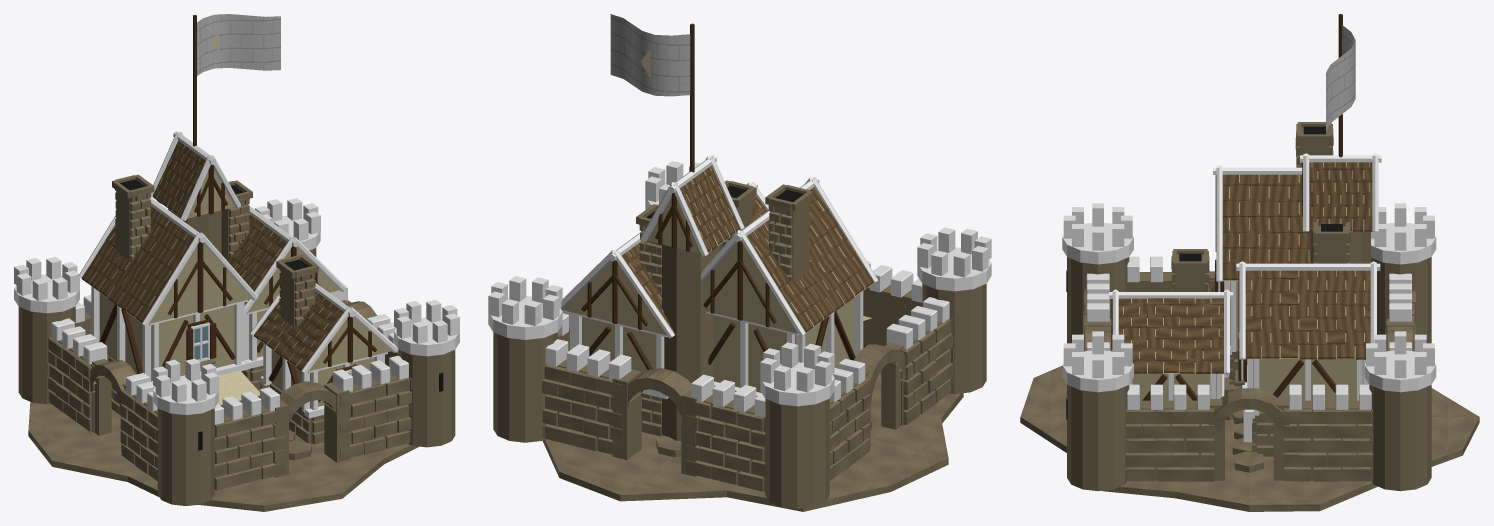
File: City.glb
3 renders of one model, left to right at view 1: azimuth 30°, elevation 25°; view 2: azimuth 150°, elevation 25°; view 3: azimuth 270°, elevation 25°, orthographic. The views are drawn at different scales.
Parts seen in each view (by area): view 1: City; view 2: City; view 3: City.
Boxes of the visible parts, x1,y1,x2,y2 form: City: (14, 14, 459, 511); City: (488, 14, 991, 511); City: (1020, 14, 1479, 511).
Size of the model in its own units: 0.5564 by 0.566 by 0.5771.
10 materials, 8 textured.
